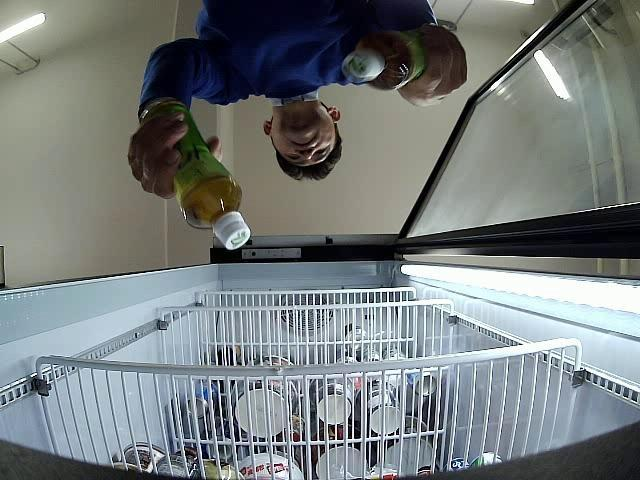19_17cha: (138, 96, 252, 252), (342, 28, 425, 92)
